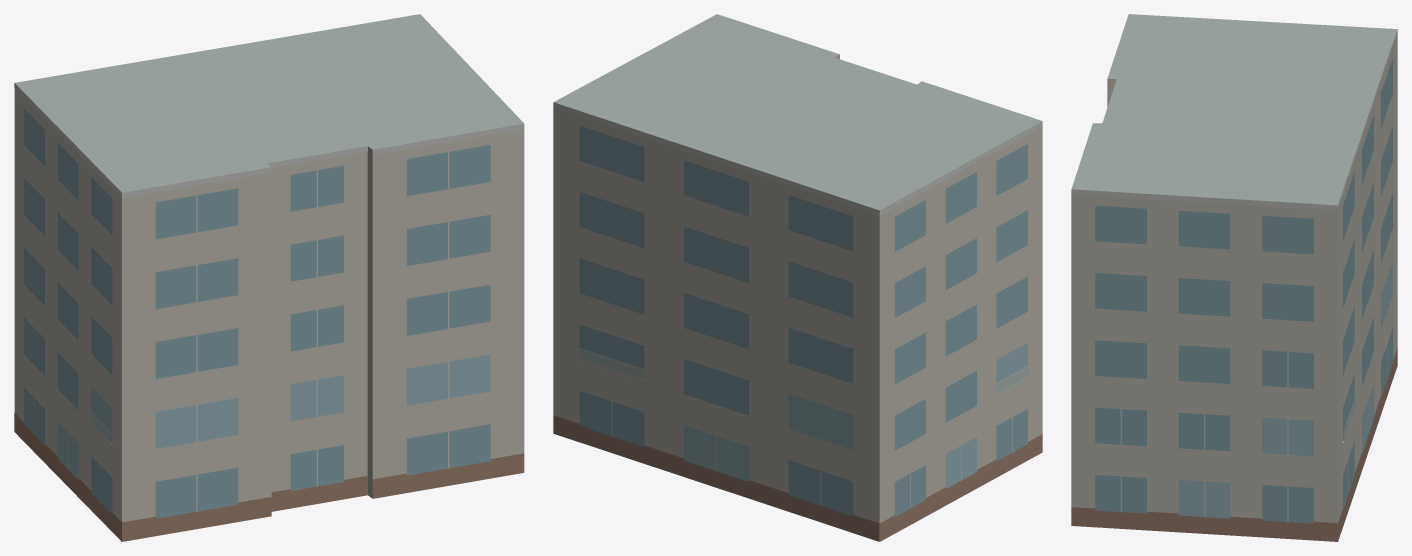
The model's file is survey-upis-33001648.glb.
3 renders of one model, left to right at view 1: azimuth 30°, elevation 25°; view 2: azimuth 150°, elevation 25°; view 3: azimuth 270°, elevation 25°, orthographic. The views are drawn at different scales.
Visible parts, largest first — view 1: survey-upis-33001648.tmp; view 2: survey-upis-33001648.tmp; view 3: survey-upis-33001648.tmp.
Part boxes in pixels (x1=…): survey-upis-33001648.tmp: x1=14, y1=14, x2=524, y2=541; survey-upis-33001648.tmp: x1=553, y1=14, x2=1042, y2=541; survey-upis-33001648.tmp: x1=1071, y1=14, x2=1397, y2=541.
Bounding box in the file's own units: 19.09 × 15.65 × 13.76.
